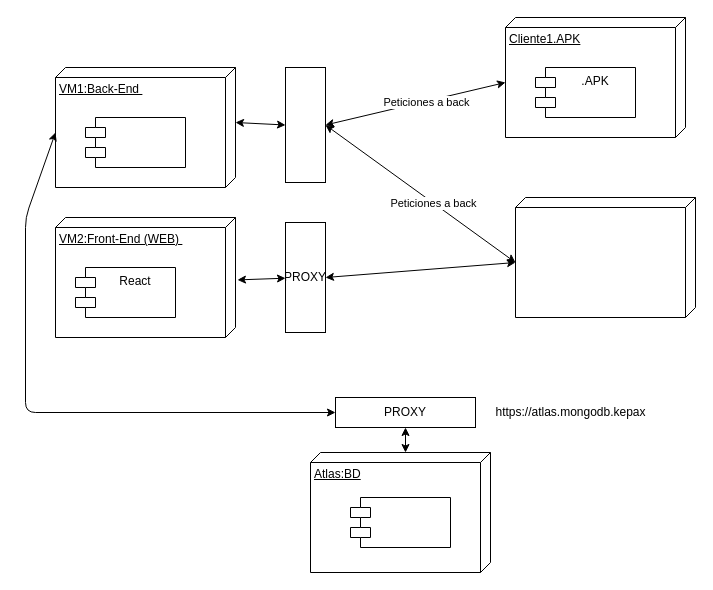
Image size: 713x590. Some labels were removed from this diagram. Each missing label, with the centre of its shape:
"Cliente2:Navegador Web" belongs at (605,257).
"PROXY (nginx)" belongs at (305,124).
"REST API" belongs at (135,142).
"SERVIDOR DB" belongs at (400,522).
